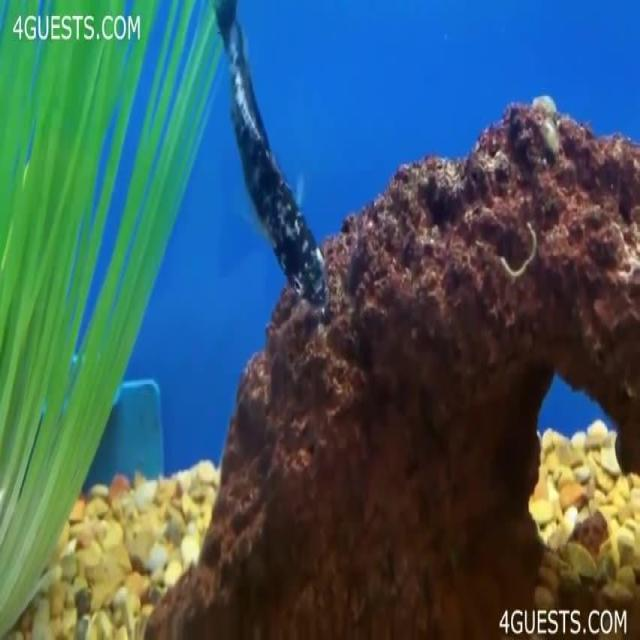PlatyFish: (202, 0, 338, 329)
